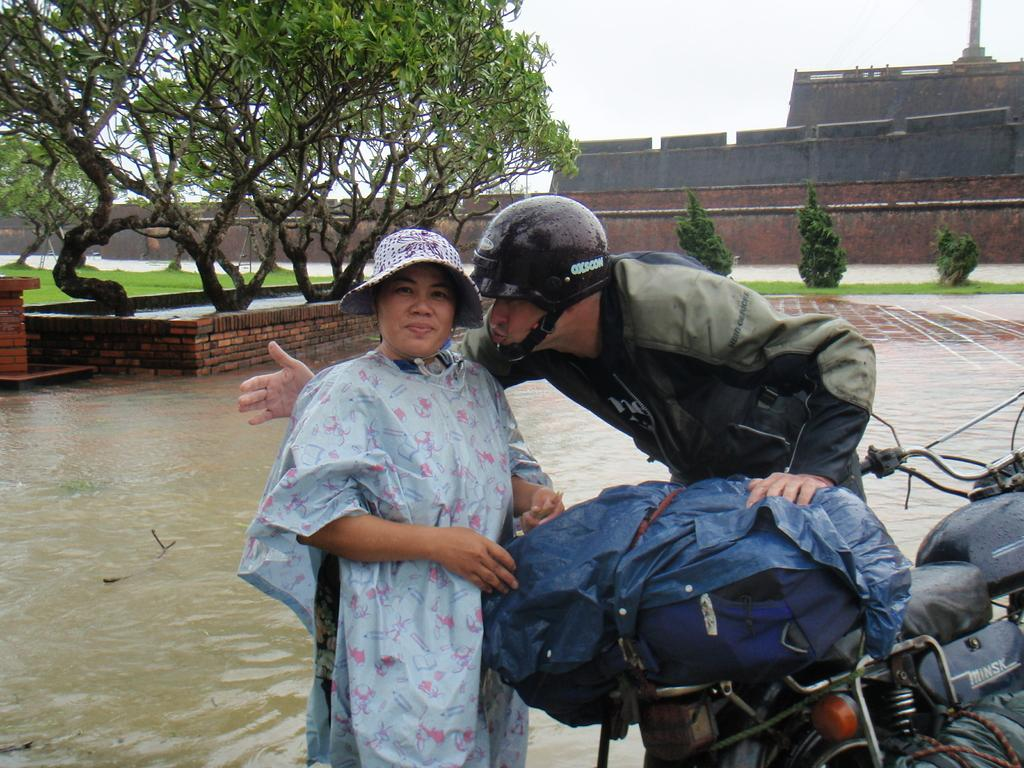Hat: (338, 225, 483, 329)
